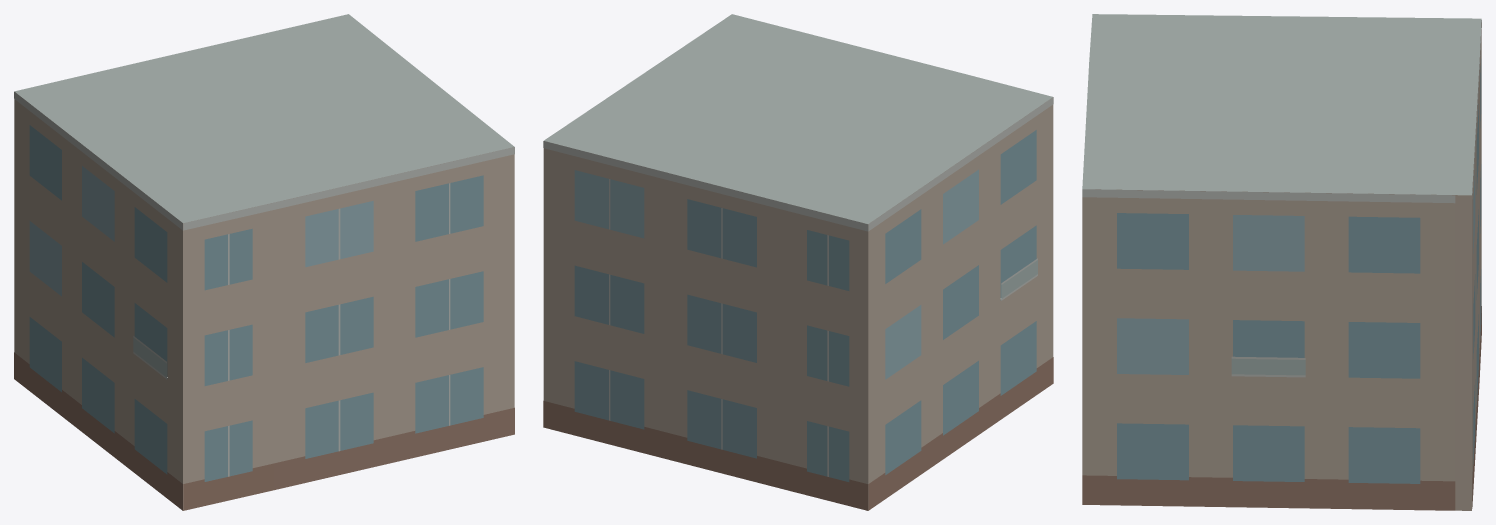
The model's file is survey-upis-32465196.glb.
3 renders of one model, left to right at view 1: azimuth 30°, elevation 25°; view 2: azimuth 150°, elevation 25°; view 3: azimuth 270°, elevation 25°, orthographic. The views are drawn at different scales.
Visible parts, largest first — view 1: survey-upis-32465196.tmp; view 2: survey-upis-32465196.tmp; view 3: survey-upis-32465196.tmp.
Boxes of the visible parts, left/top/right/bottom form: survey-upis-32465196.tmp: left=14, top=14, right=514, bottom=510; survey-upis-32465196.tmp: left=543, top=14, right=1053, bottom=510; survey-upis-32465196.tmp: left=1082, top=14, right=1481, bottom=510.
Size of the model in its own units: 11.72 by 9.5 by 10.91.
